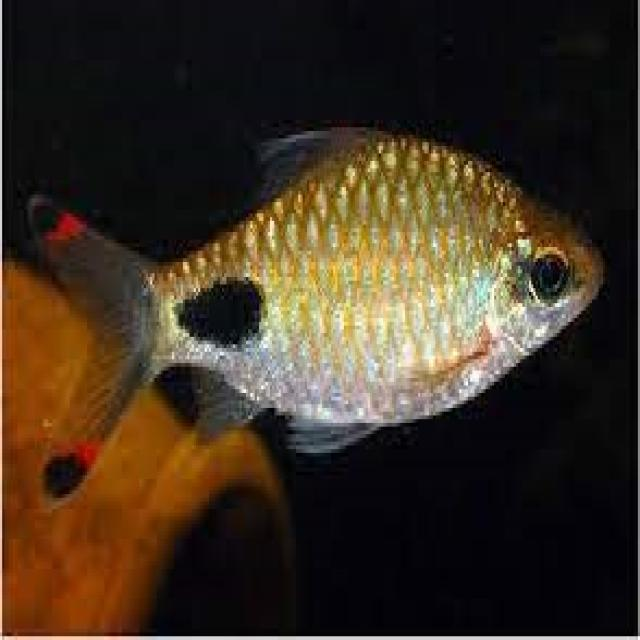Black-Spotted-Barb: (10, 94, 618, 511)
